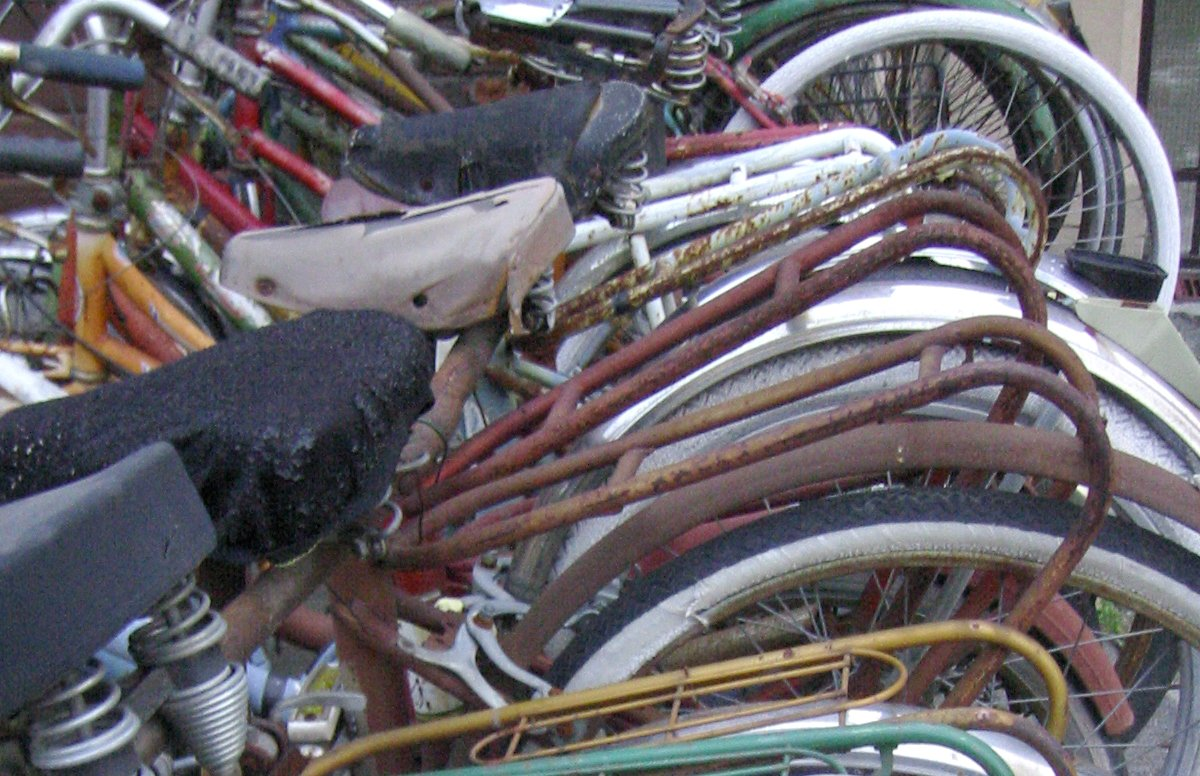Bicycle: (1, 1, 1200, 771)
